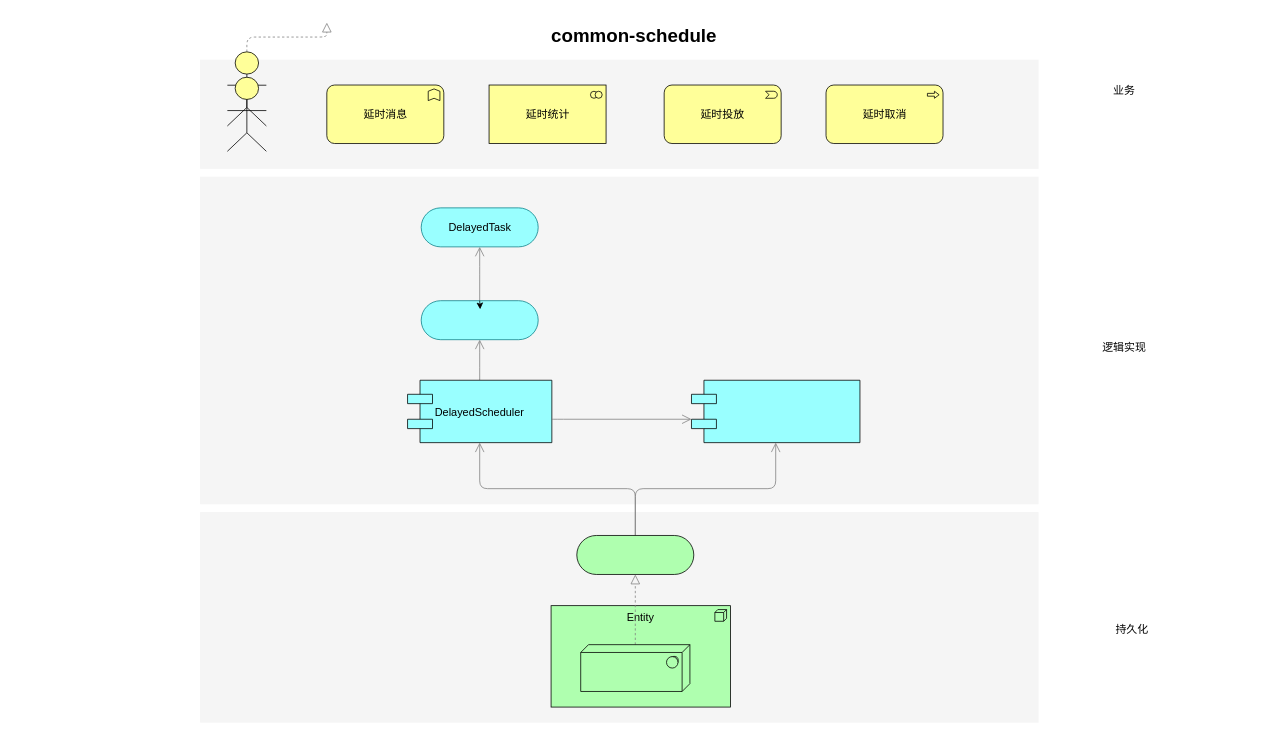
Image size: 1267x736. Some labels were removed from this diagram. Each missing label, with the centre of its shape:
"DelayedTaskDao" goes at point 635,554.
"DelayedTaskPo" goes at point 635,667.
"DelayedTaskRetryListener" goes at point 775,411.
"PreCheckTask" goes at point 479,320.
